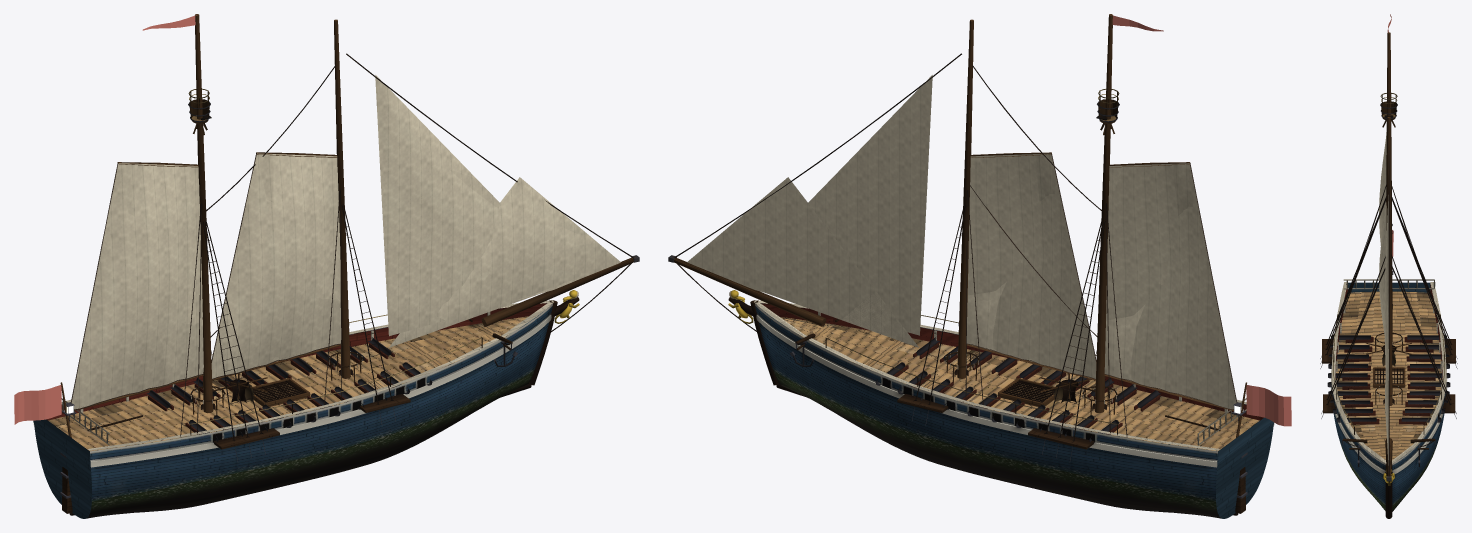
Rendered from schooner.glb.
3 renders of one model, left to right at view 1: azimuth 30°, elevation 25°; view 2: azimuth 150°, elevation 25°; view 3: azimuth 270°, elevation 25°, orthographic. The views are drawn at different scales.
Parts seen in each view (by area): view 1: LOD0_Body, LOD0_Jib, LOD0_m1_AftSail, LOD0_Wood, LOD0_m0_AftSail, LOD2_Body, LOD2_Wood, LOD1_Wood, LOD1_Jib, LOD1_m1_AftSail, LOD1_m0_AftSail, LOD2_m1_AftSail (+3 smaller); view 2: LOD0_Body, LOD2_Jib, LOD2_m1_AftSail, LOD0_Wood, LOD2_m0_AftSail, LOD2_Body, LOD2_Wood, LOD1_Wood, LOD1_Body, LOD0_m1_AftSail, LOD1_m1_AftSail, LOD0_m0_AftSail (+3 smaller); view 3: LOD0_Wood, LOD2_Body, LOD0_Body, LOD2_Wood, LOD1_Wood, LOD0_Jib, LOD0_m0_AftSail, LOD1_Body, LOD0_m1_AftSail, LOD1_Jib.
Boxes of the visible parts, x1=… form: LOD0_Body: x1=33, y1=99, x2=579, y2=518; LOD0_Jib: x1=375, y1=75, x2=597, y2=347; LOD0_m1_AftSail: x1=71, y1=163, x2=202, y2=409; LOD0_Wood: x1=33, y1=14, x2=639, y2=518; LOD0_m0_AftSail: x1=212, y1=153, x2=340, y2=378; LOD2_Body: x1=48, y1=303, x2=551, y2=516; LOD2_Wood: x1=39, y1=14, x2=631, y2=516; LOD1_Wood: x1=35, y1=14, x2=635, y2=518; LOD1_Jib: x1=375, y1=80, x2=620, y2=347; LOD1_m1_AftSail: x1=82, y1=163, x2=202, y2=402; LOD1_m0_AftSail: x1=212, y1=154, x2=340, y2=377; LOD2_m1_AftSail: x1=118, y1=163, x2=203, y2=379; LOD0_Body: x1=728, y1=100, x2=1274, y2=518; LOD2_Jib: x1=687, y1=75, x2=932, y2=346; LOD2_m1_AftSail: x1=1106, y1=164, x2=1235, y2=409; LOD0_Wood: x1=668, y1=14, x2=1273, y2=518; LOD2_m0_AftSail: x1=967, y1=154, x2=1094, y2=377; LOD2_Body: x1=756, y1=303, x2=1259, y2=516; LOD2_Wood: x1=676, y1=14, x2=1268, y2=516; LOD1_Wood: x1=673, y1=14, x2=1272, y2=518; LOD1_Body: x1=757, y1=305, x2=1217, y2=517; LOD0_m1_AftSail: x1=1104, y1=163, x2=1236, y2=408; LOD1_m1_AftSail: x1=1105, y1=163, x2=1235, y2=409; LOD0_m0_AftSail: x1=966, y1=153, x2=1096, y2=378; LOD0_Wood: x1=1322, y1=33, x2=1455, y2=518; LOD2_Body: x1=1335, y1=291, x2=1442, y2=511; LOD0_Body: x1=1320, y1=103, x2=1457, y2=510; LOD2_Wood: x1=1331, y1=32, x2=1446, y2=518; LOD1_Wood: x1=1331, y1=32, x2=1446, y2=518; LOD0_Jib: x1=1384, y1=195, x2=1388, y2=438; LOD0_m0_AftSail: x1=1379, y1=208, x2=1386, y2=333; LOD1_Body: x1=1331, y1=342, x2=1445, y2=511; LOD0_m1_AftSail: x1=1379, y1=137, x2=1386, y2=245; LOD1_Jib: x1=1385, y1=262, x2=1388, y2=465.
Size of the model in its own units: 32.52 by 24.04 by 7.88.
5 materials, 3 textured.
